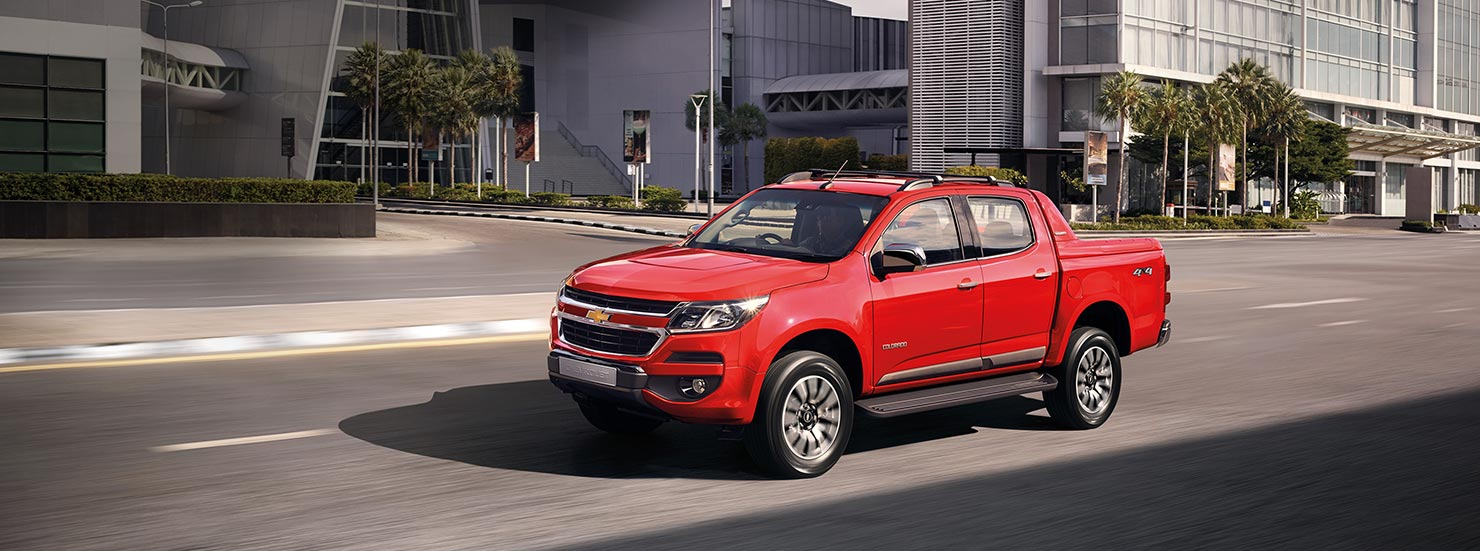pickup: (545, 160, 1177, 487)
